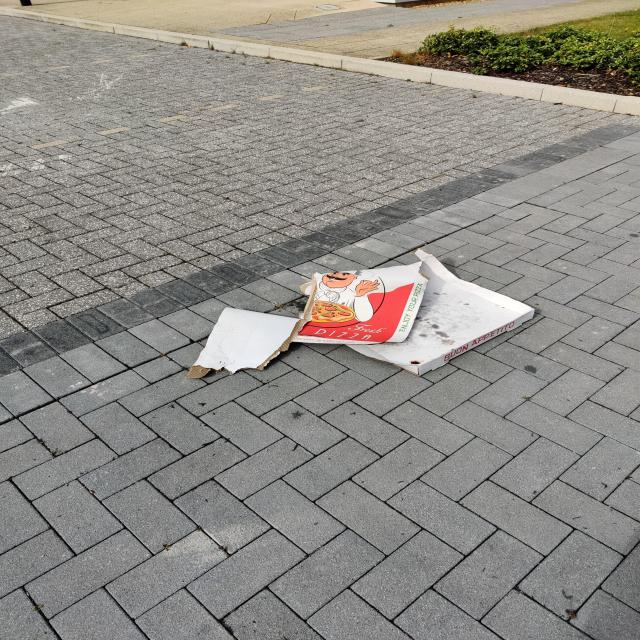litter: (189, 258, 536, 375)
